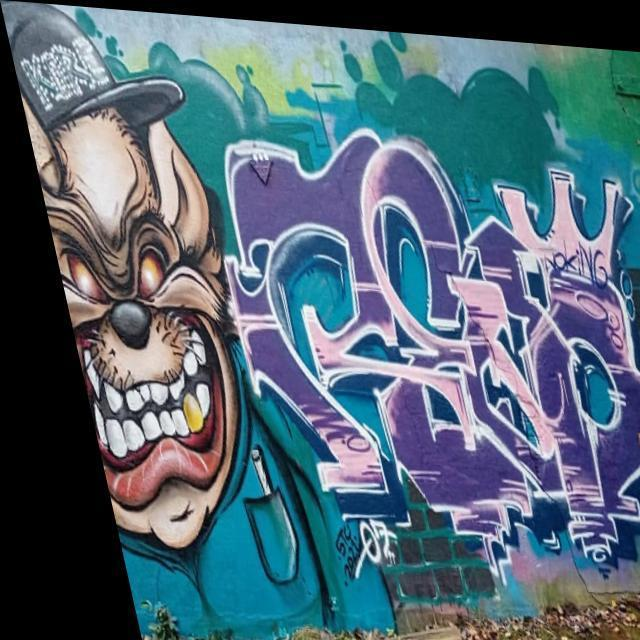-: (195, 139, 640, 605), (0, 0, 281, 640)
